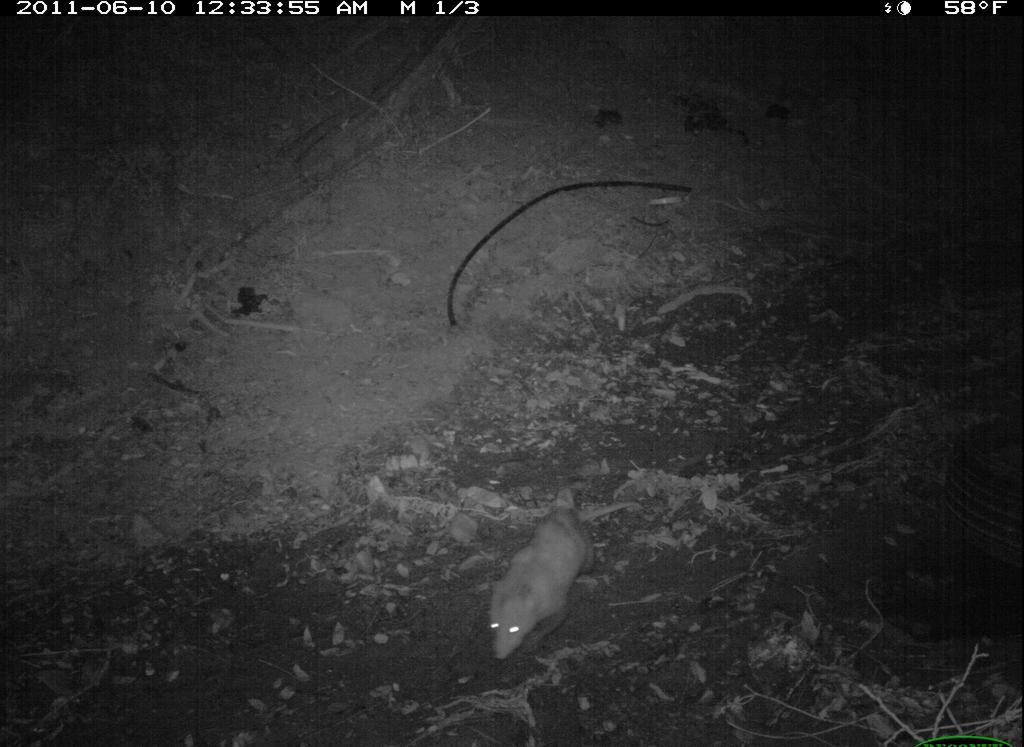opossum: (464, 495, 614, 669)
